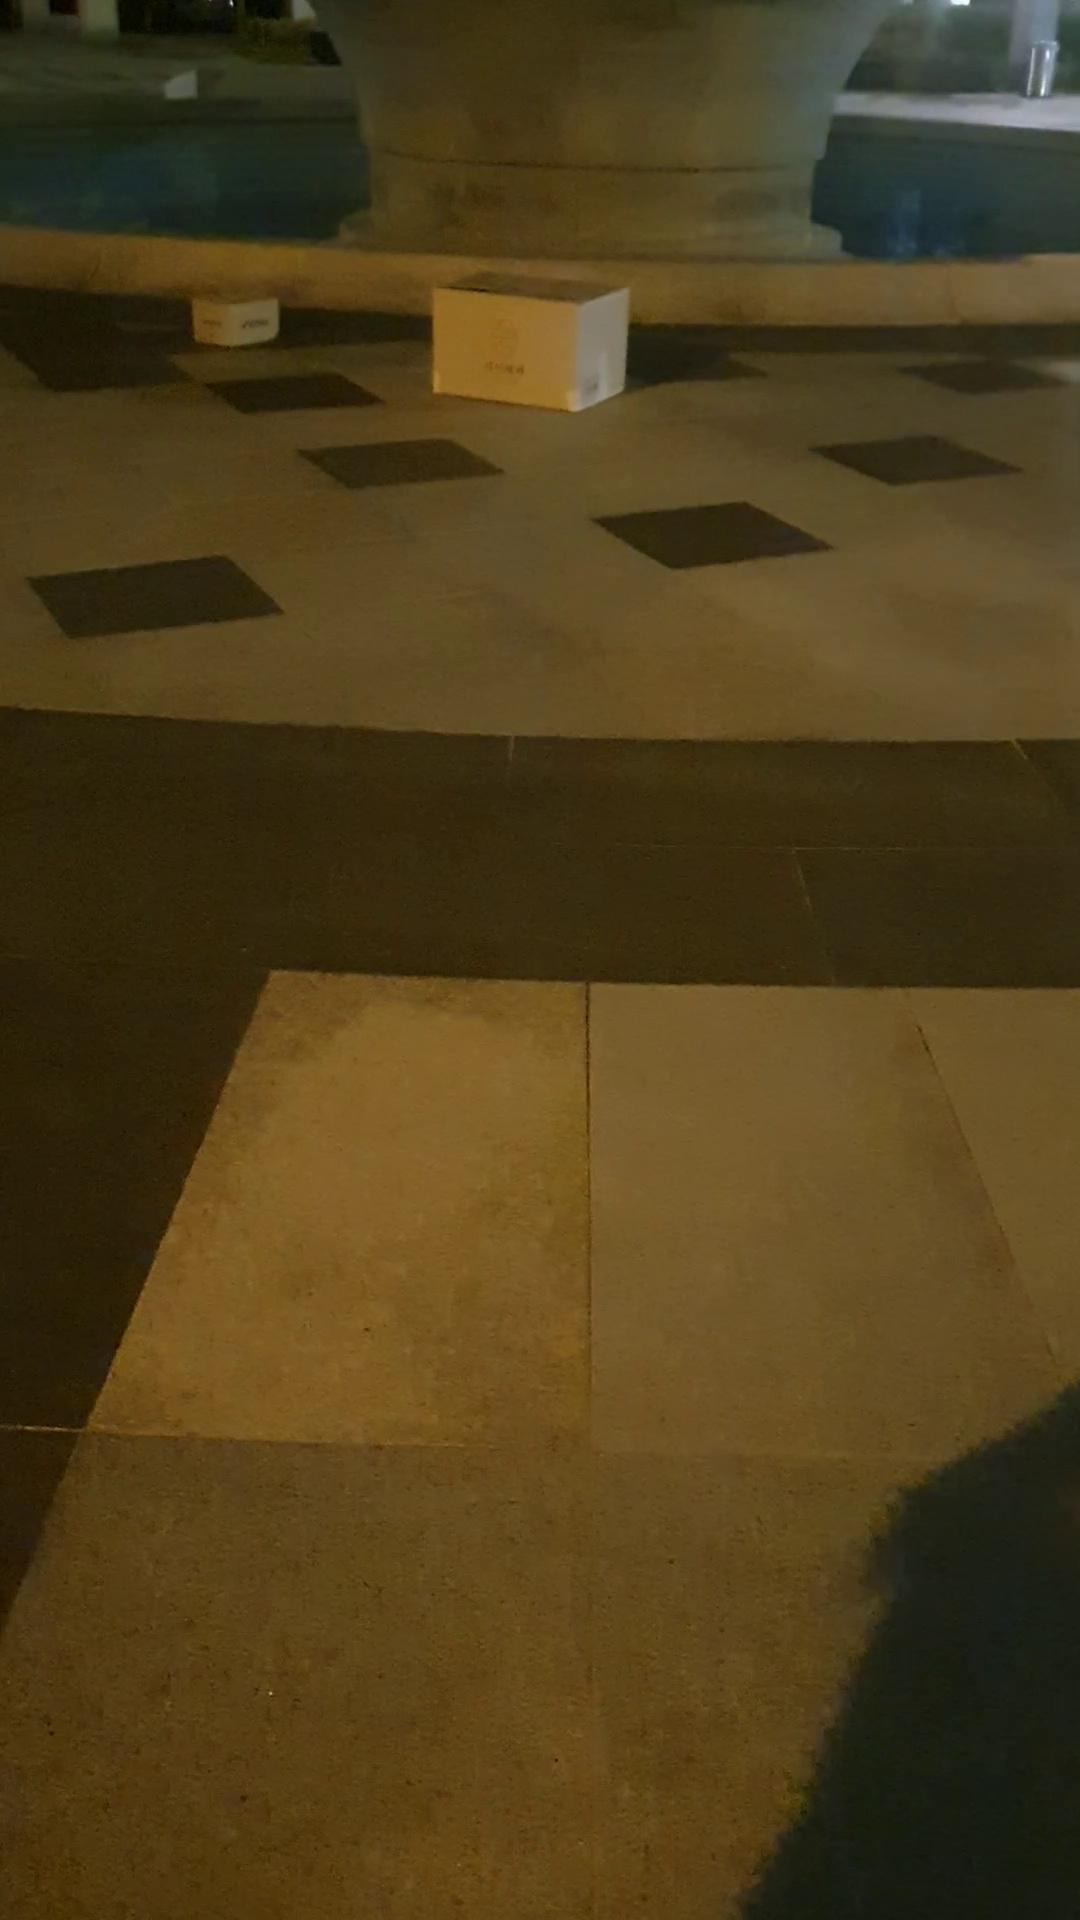Box: (436, 258, 622, 418), (189, 265, 287, 349)
